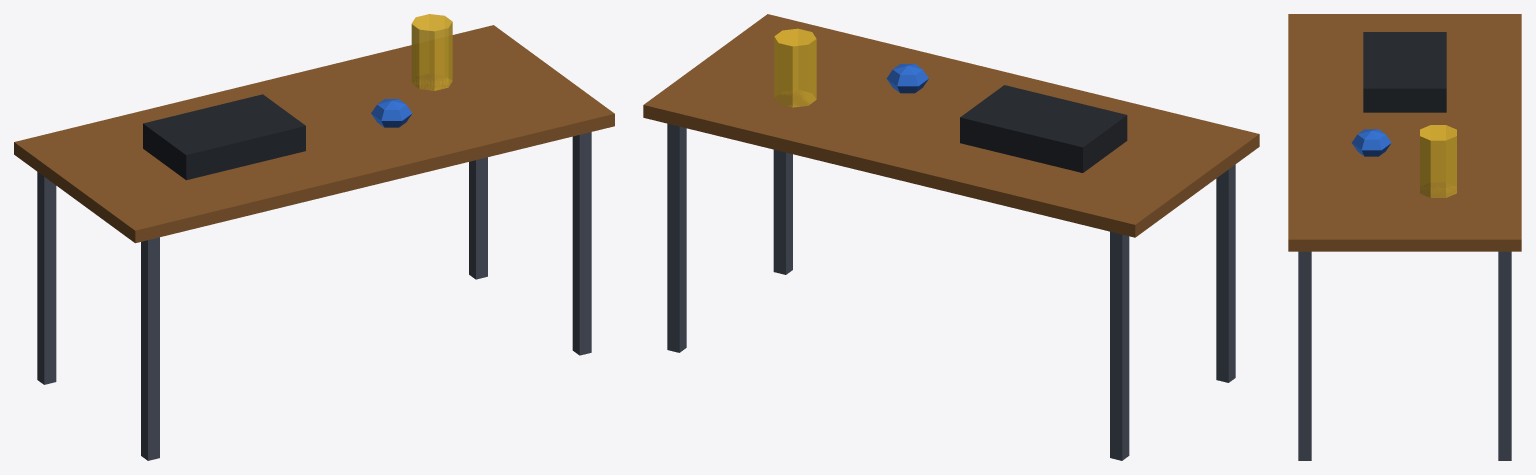
Rendered from staging_table.glb.
3 renders of one model, left to right at view 1: azimuth 30°, elevation 25°; view 2: azimuth 150°, elevation 25°; view 3: azimuth 270°, elevation 25°, orthographic. The views are drawn at different scales.
Visible parts, largest first — view 1: staging_table; view 2: staging_table; view 3: staging_table.
Boxes of the visible parts, x1,y1,x2,y2 form: staging_table: (14,14,614,460); staging_table: (643,14,1259,460); staging_table: (1288,14,1521,460).
Bounding box in the file's own units: 1.6 × 0.95 × 0.7.
